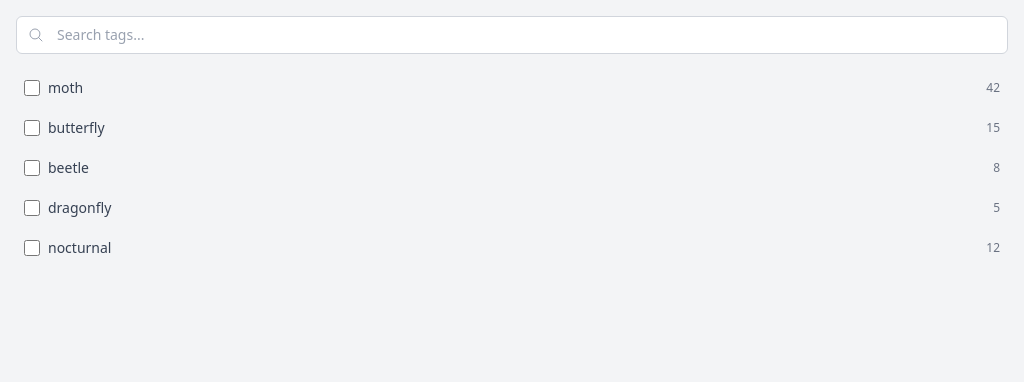
Test case: TagFilter › Match Mode Toggle › shows correct description for "All" mode
Click the checkbox named "select tag moth" at (32, 88), box [24,80,40,96]
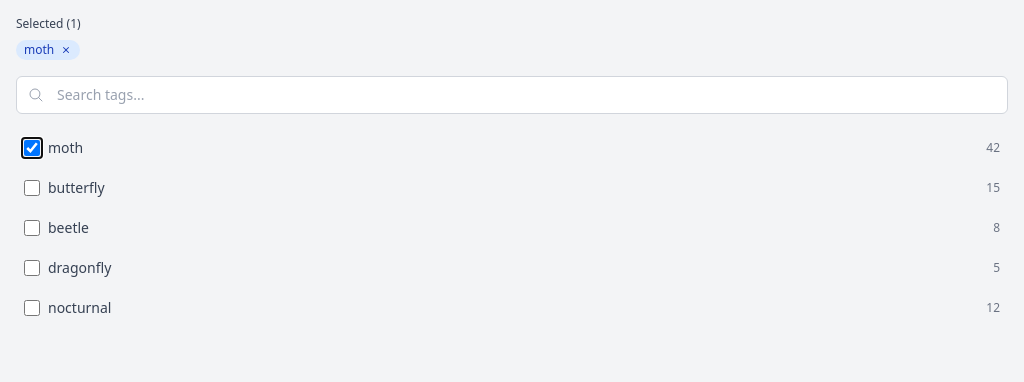
Click the checkbox named "select tag butterfly" at (32, 188), box [24,180,40,196]
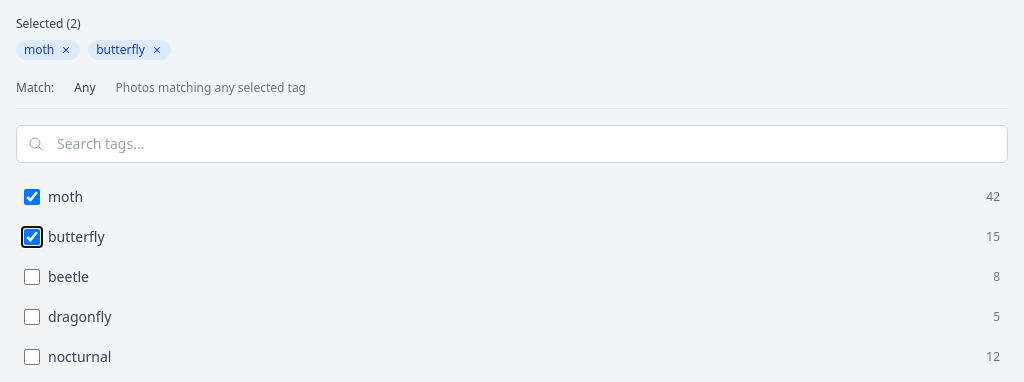
Click the button with aria-label "match mode" at (85, 88), box [62,76,108,100]
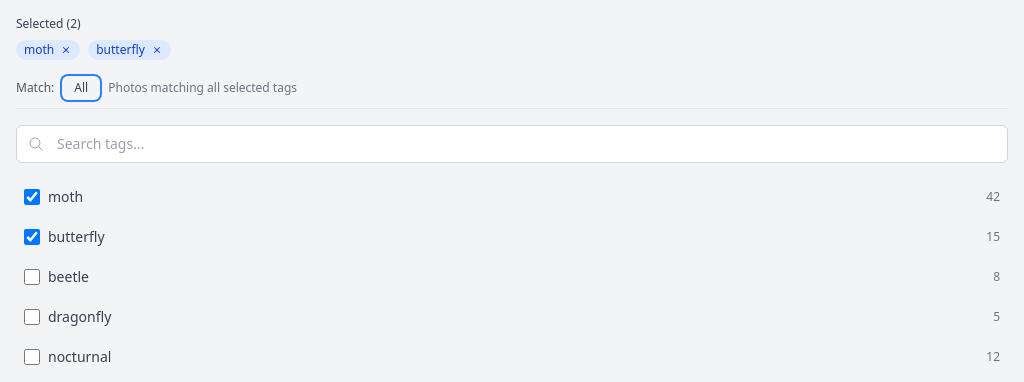
Now the text "Photos matching all selected tags" is shown, box [108,80,297,96]
